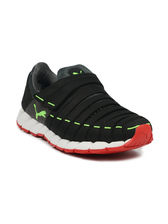shoes: (13, 55, 157, 159)
